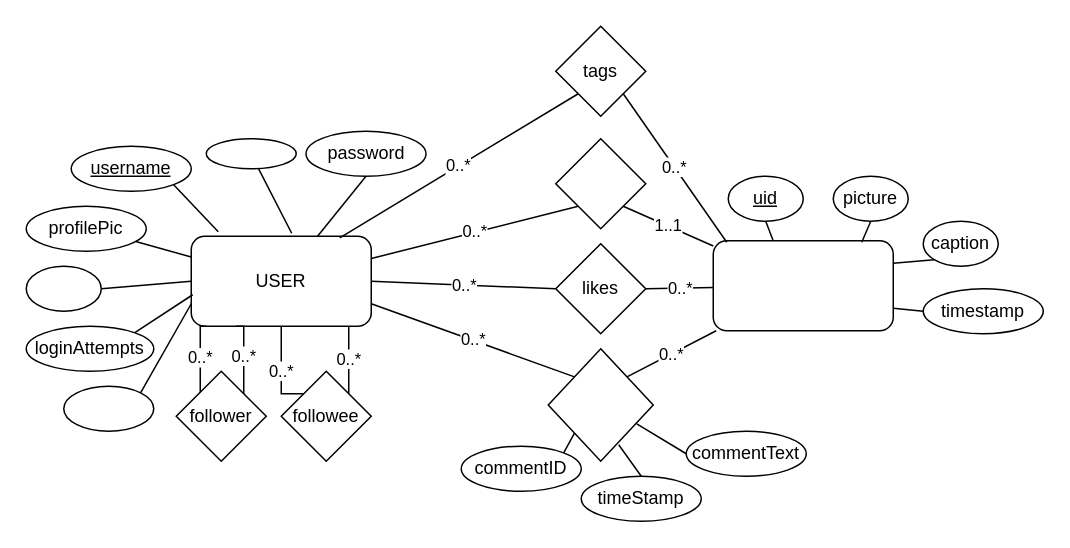
Image size: 1070x548. Some labels were removed from this diagram. The shapes that lost their labels are listed below. From the top down, each one's box as (x1, y1, x2, y2) in pixels, then its label:
(205, 137, 296, 169): email
(554, 137, 646, 229): owns
(25, 265, 101, 311): privacy
(712, 239, 893, 331): POST
(62, 385, 154, 431): lockUntil
(547, 347, 653, 461): comments
